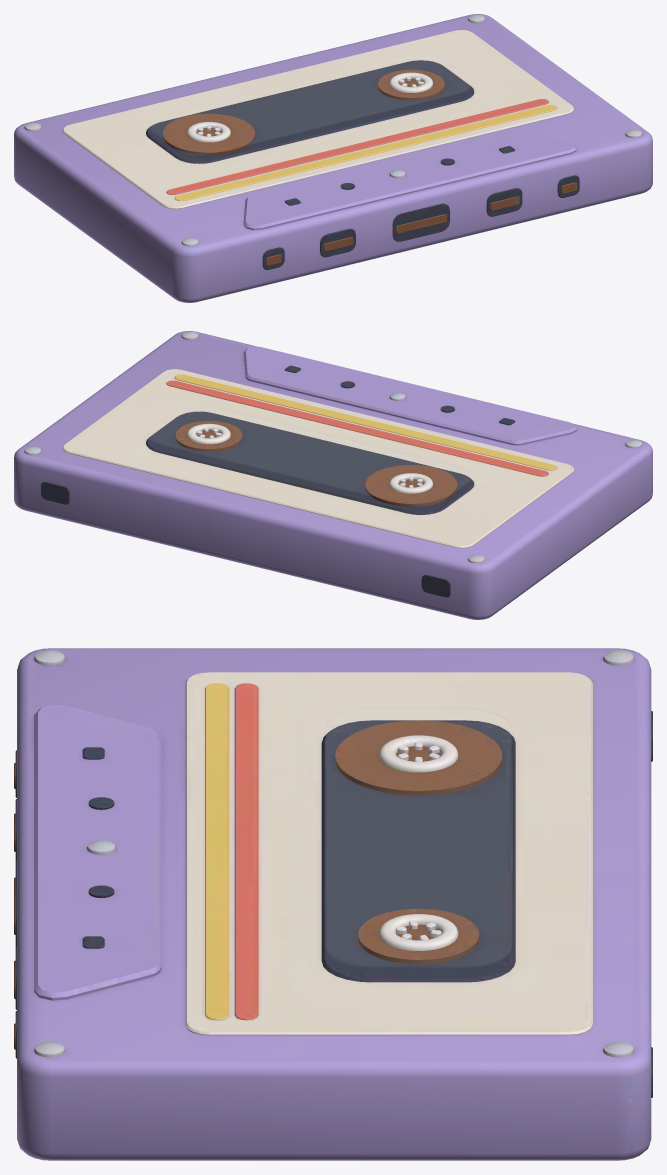
The model's file is cassette-tape.glb.
3 views of the same model, one above another, from view 1: azimuth 30°, elevation 25°; view 2: azimuth 150°, elevation 25°; view 3: azimuth 270°, elevation 25° (orthographic). The views are drawn at different scales.
Visible parts, largest first — view 1: cassette-tape_body; view 2: cassette-tape_body; view 3: cassette-tape_body.
Boxes of the visible parts, x1,y1,x2,y2 form: cassette-tape_body: (14, 14, 652, 302); cassette-tape_body: (14, 331, 652, 619); cassette-tape_body: (14, 648, 652, 1160).
Bounding box in the file's own units: 0.1004 × 0.0132 × 0.0643.
Materials: 2 (1 with a texture image).
